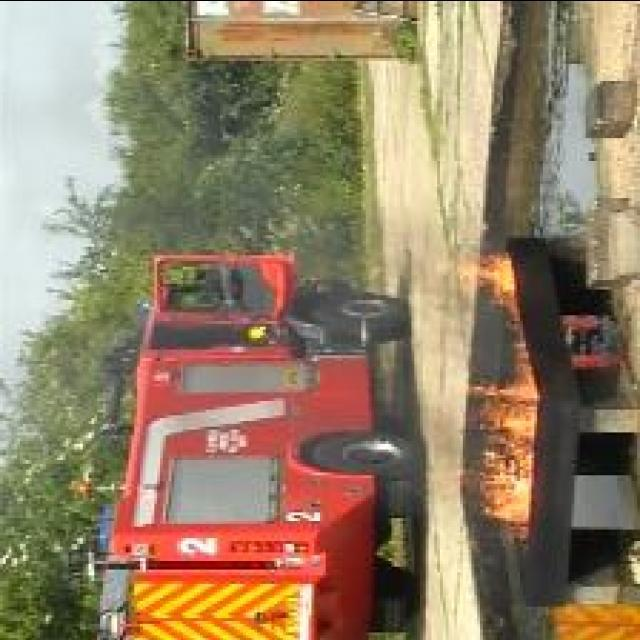Fire: (464, 334, 544, 537), (458, 250, 522, 333)
